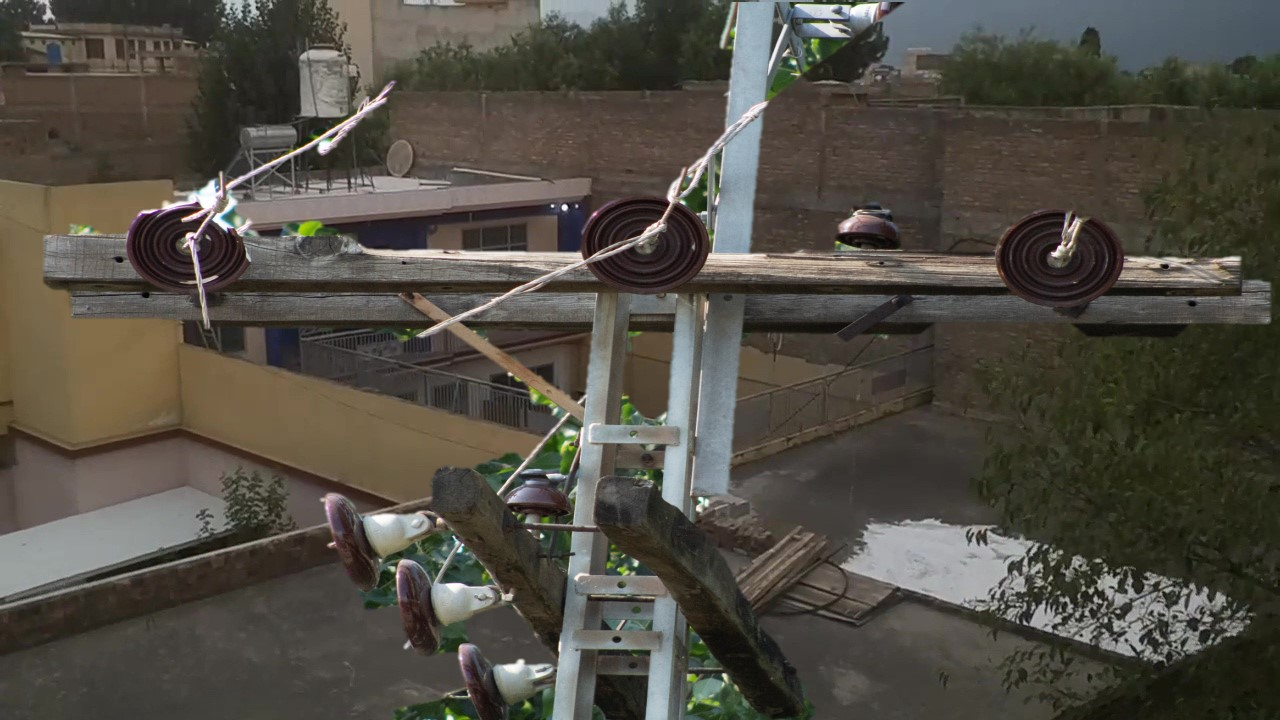defect_disc: (125, 191, 258, 299)
insulator_disc: (580, 189, 716, 298), (995, 204, 1129, 310), (318, 484, 384, 597), (390, 553, 458, 659), (448, 632, 539, 705)
insulator_pin: (832, 196, 905, 250), (506, 466, 575, 520)
